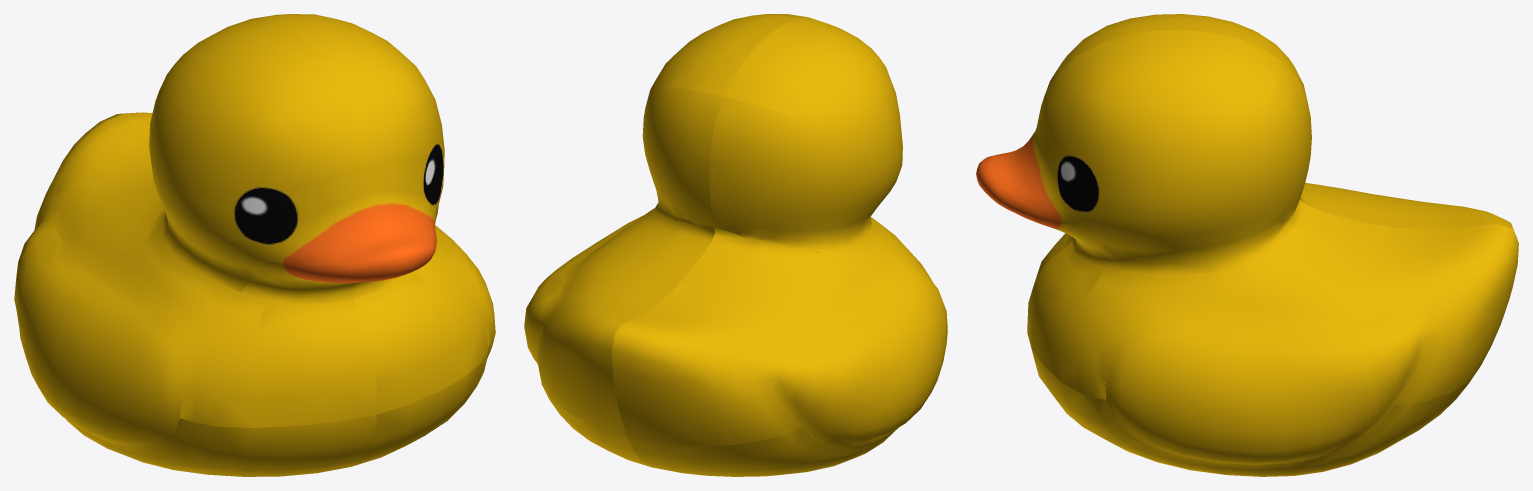
File: duck.glb
3 renders of one model, left to right at view 1: azimuth 30°, elevation 25°; view 2: azimuth 150°, elevation 25°; view 3: azimuth 270°, elevation 25°, orthographic. The views are drawn at different scales.
Visible parts, largest first — view 1: duck; view 2: duck; view 3: duck.
Part boxes in pixels (<box>): duck: <box>14,14,495,476</box>; duck: <box>524,14,947,476</box>; duck: <box>976,14,1518,476</box>.
Size of the model in its own units: 1.06 by 1.03 by 1.32.
2 materials, 1 textured.
